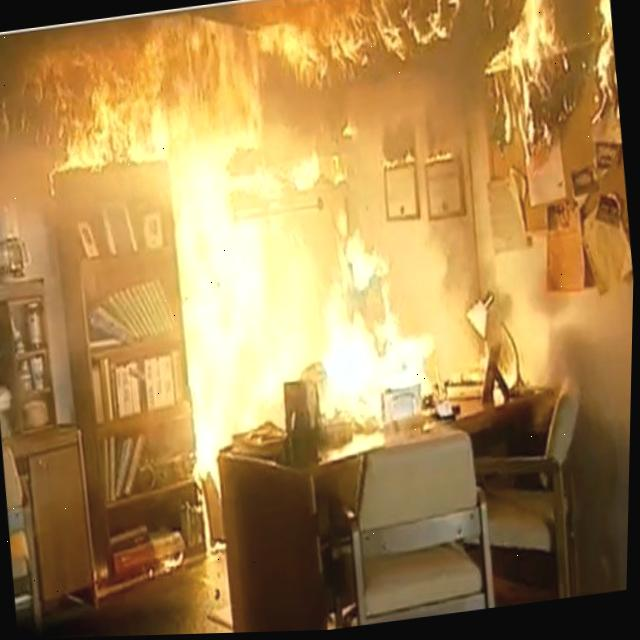fire: (35, 0, 634, 513)
